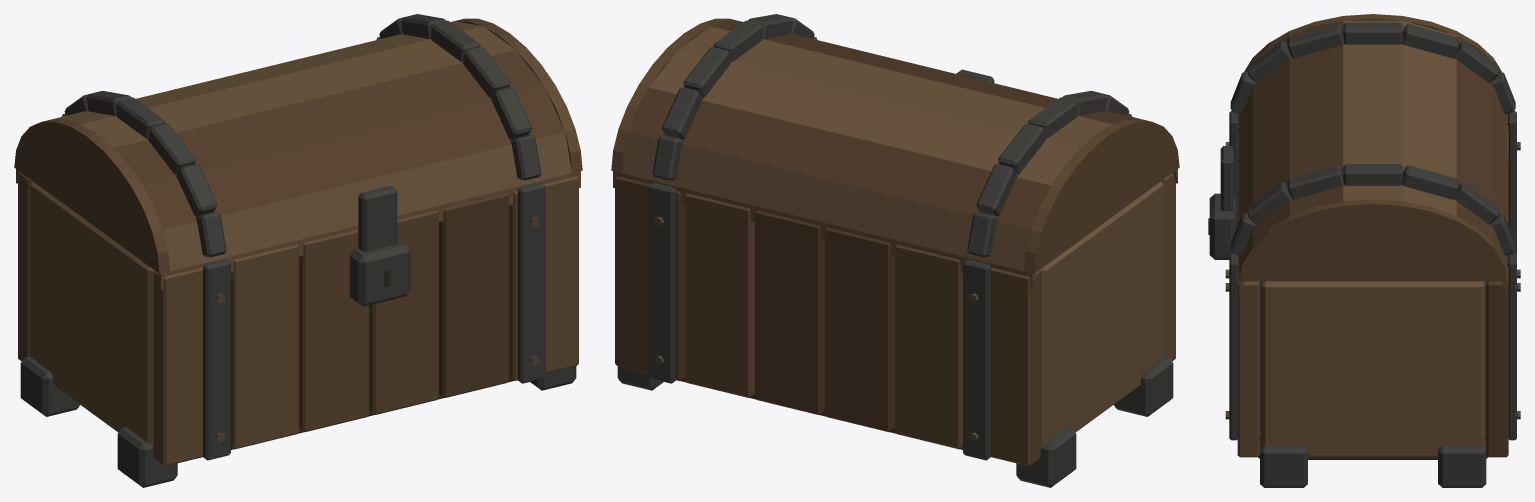
File: chest_oak.glb
3 renders of one model, left to right at view 1: azimuth 30°, elevation 25°; view 2: azimuth 150°, elevation 25°; view 3: azimuth 270°, elevation 25°, orthographic. The views are drawn at different scales.
Visible parts, largest first — view 1: chest_oak_Geometry, ChestLidPivot_Geometry; view 2: chest_oak_Geometry, ChestLidPivot_Geometry; view 3: ChestLidPivot_Geometry, chest_oak_Geometry.
Boxes of the visible parts, x1,y1,x2,y2 form: chest_oak_Geometry: (18,173,578,487); ChestLidPivot_Geometry: (14,14,582,289); chest_oak_Geometry: (615,173,1175,487); ChestLidPivot_Geometry: (611,14,1179,289); ChestLidPivot_Geometry: (1220,14,1515,295); chest_oak_Geometry: (1208,111,1520,487).
Bounding box in the file's own units: 1.25 × 0.8767 × 0.8405.
